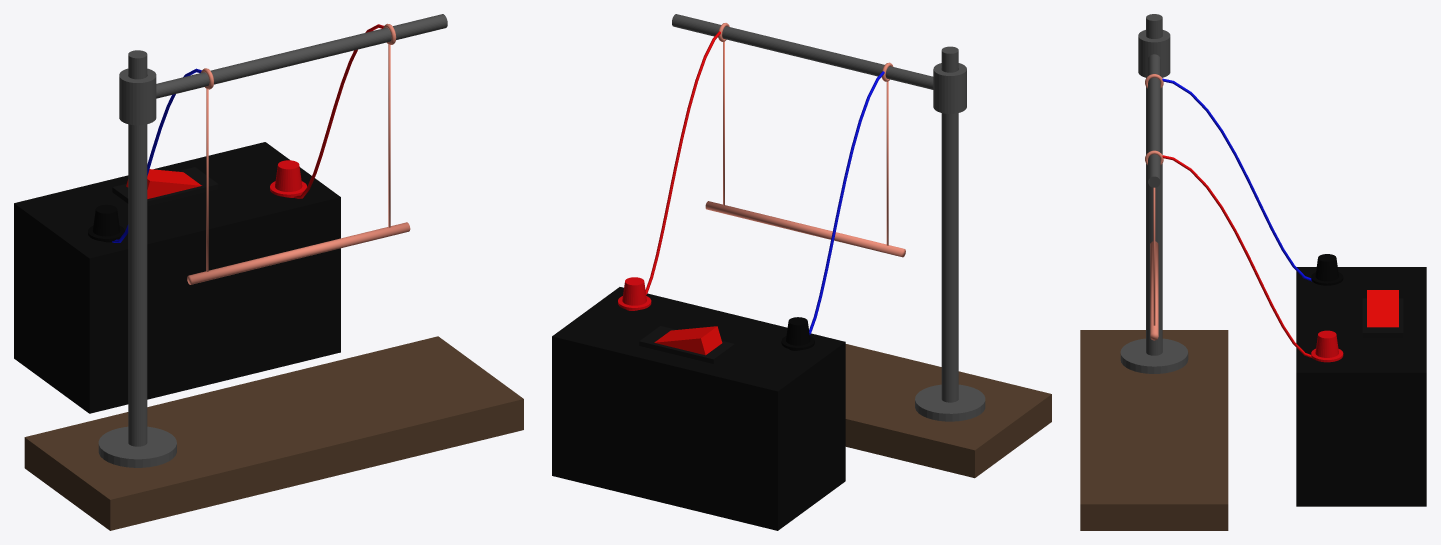
The model's file is wireSet.glb.
The picture shows the model from 3 angles, left to right: view 1: azimuth 30°, elevation 25°; view 2: azimuth 150°, elevation 25°; view 3: azimuth 270°, elevation 25°; orthographic projection. The views are drawn at different scales.
Parts seen in each view (by area): view 1: Batt, Base, Pole, Bar, Conductor, Switch, redWire; view 2: Batt, Base, Pole, Bar, Conductor, Switch, redWire, blueWire; view 3: Batt, Base, Pole, Bar, Conductor, Switch, redWire, blueWire.
Part boxes in pixels (box(x1,y1,x2,y2)): Batt: box(14, 142, 340, 413); Base: box(24, 336, 523, 530); Pole: box(98, 50, 176, 467); Bar: box(119, 14, 447, 125); Conductor: box(187, 23, 410, 284); Switch: box(126, 169, 201, 198); redWire: box(294, 24, 383, 198); Batt: box(552, 277, 845, 530); Base: box(845, 344, 1051, 478); Pole: box(915, 46, 985, 421); Bar: box(672, 14, 966, 113); Conductor: box(705, 23, 905, 257); Switch: box(654, 326, 722, 355); redWire: box(645, 31, 720, 294); blueWire: box(809, 71, 884, 334); Batt: box(1296, 254, 1426, 506); Base: box(1080, 330, 1228, 530); Pole: box(1120, 14, 1188, 373); Bar: box(1138, 30, 1170, 187); Conductor: box(1145, 74, 1163, 340); Switch: box(1367, 290, 1398, 327); redWire: box(1162, 155, 1311, 357); blueWire: box(1162, 78, 1311, 281).
Size of the model in its own units: 0.5574 by 0.5512 by 0.4684.
